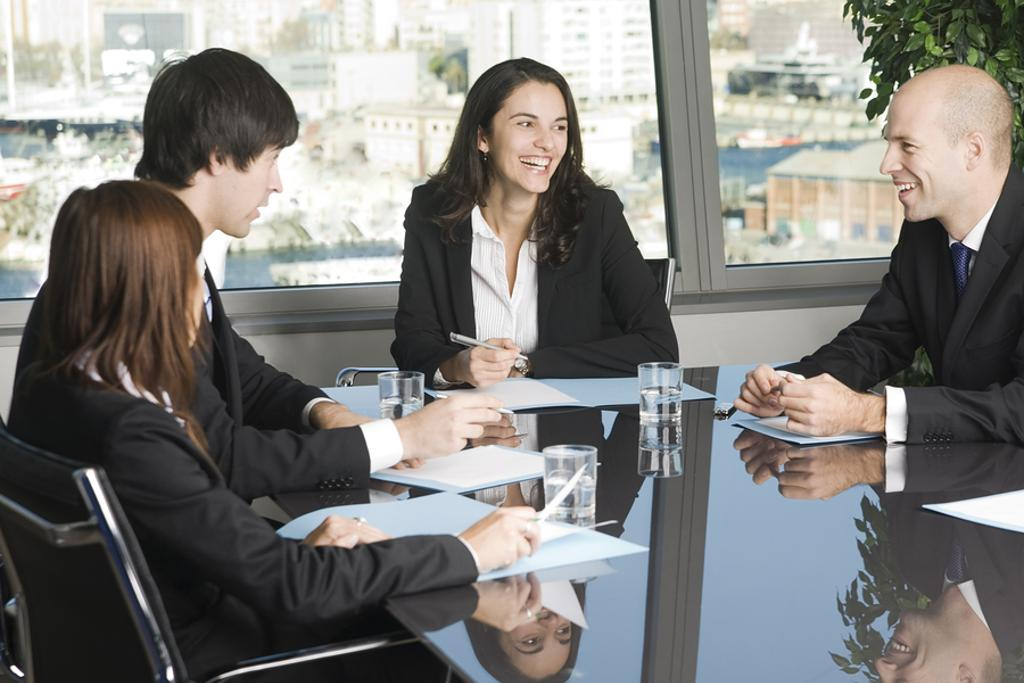face: (210, 118, 288, 238), (498, 558, 578, 672), (148, 226, 218, 350), (882, 104, 952, 224), (498, 80, 566, 182)
